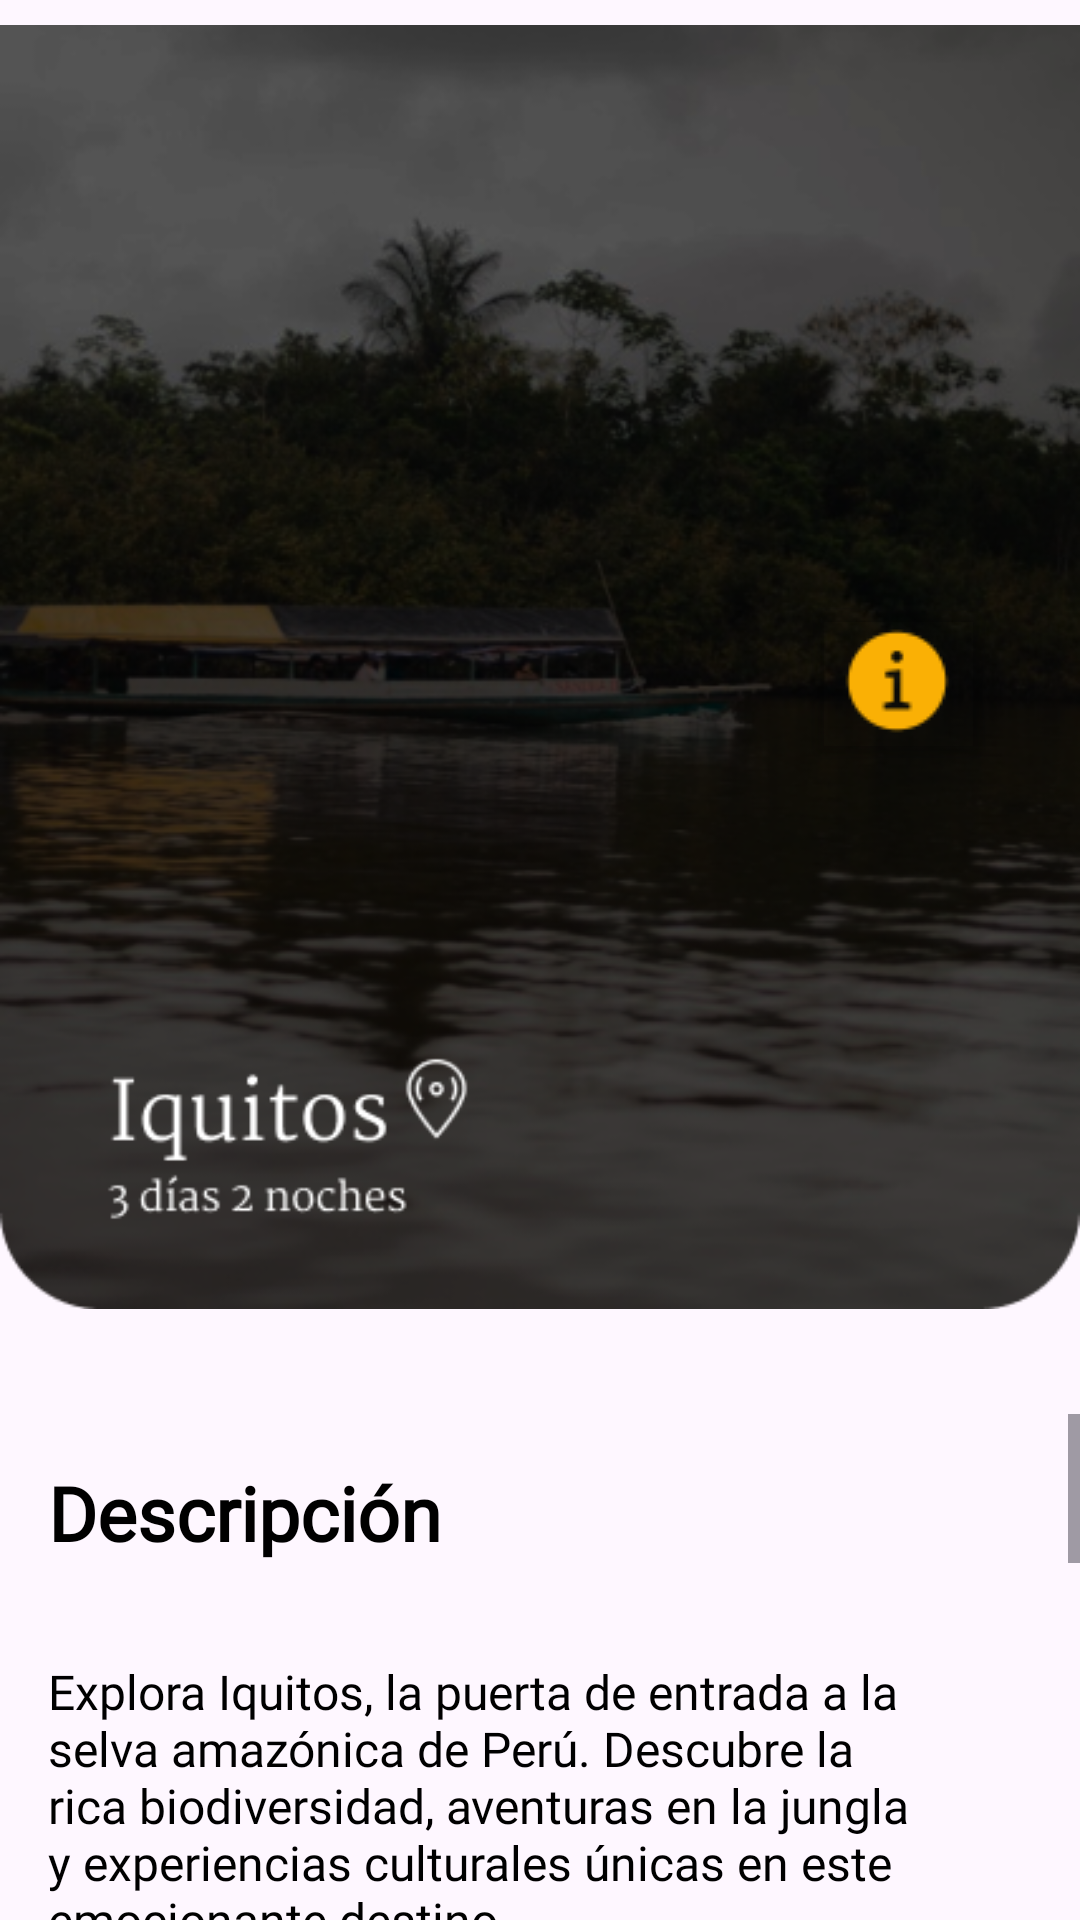

Screen size 1080×1920. Icon name, then its center in pixels as point (x, y):
info: point (897, 681)
